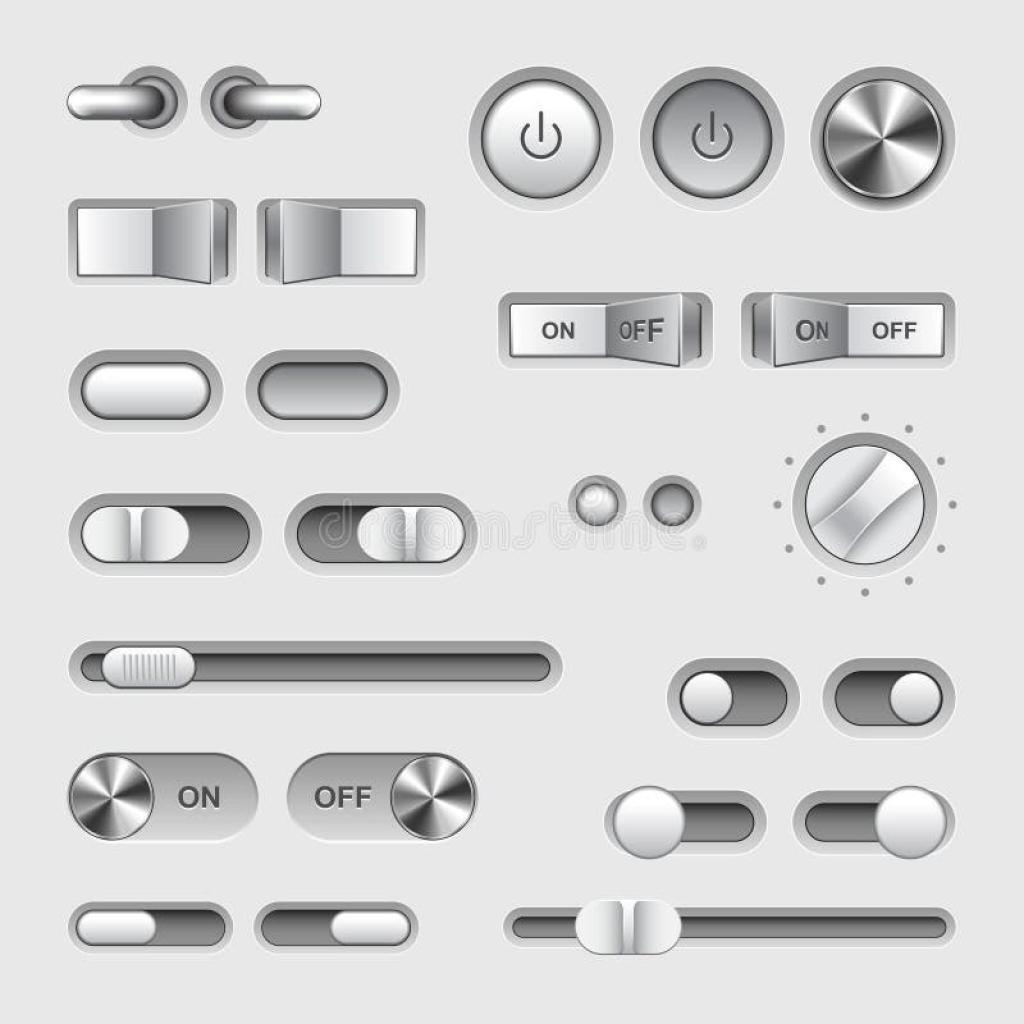icon: (514, 105, 574, 173), (684, 105, 743, 169)
radio: (571, 472, 630, 535), (644, 474, 703, 535)
slider: (69, 640, 564, 698), (504, 896, 958, 958)
switch: (67, 484, 266, 588), (281, 485, 479, 582), (70, 751, 260, 845), (287, 753, 480, 844), (604, 785, 768, 862), (793, 785, 957, 862), (666, 658, 803, 742), (823, 658, 957, 742), (70, 902, 236, 956), (255, 901, 421, 954)
